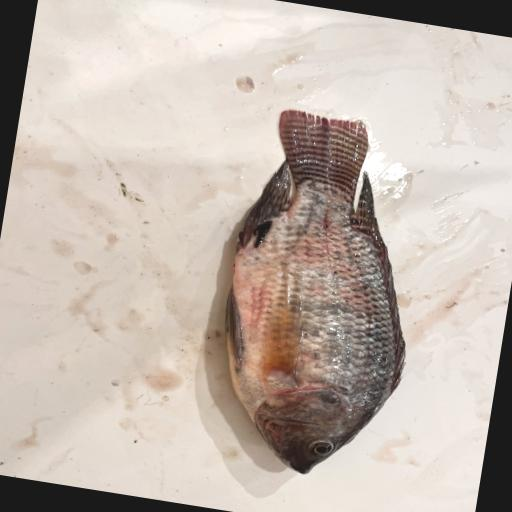Tilapia: (202, 103, 441, 487)
